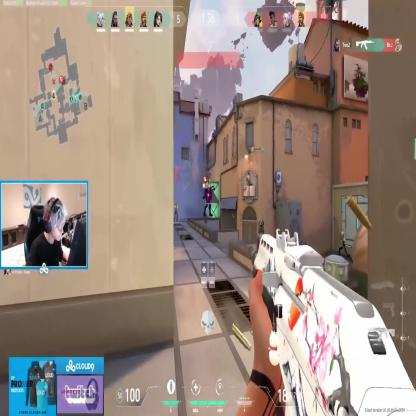enemy: (338, 228, 353, 264), (202, 179, 214, 218), (173, 202, 178, 222)
enemy_head: (206, 181, 210, 189), (341, 230, 344, 238), (175, 203, 177, 208)
